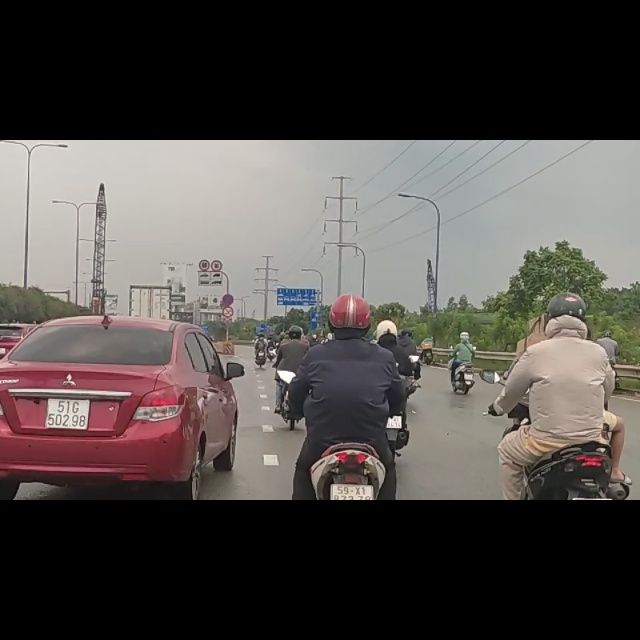bien_chi_dan: (222, 273, 234, 294)
